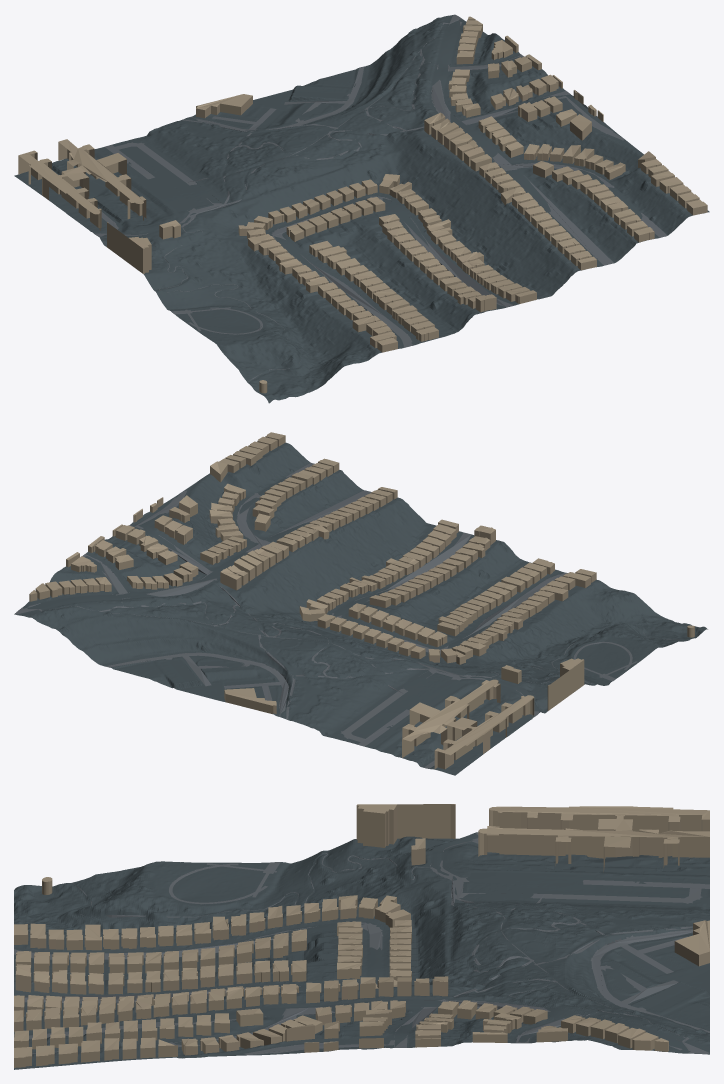
File: epsg26910-1427-10880.lod0.glb
3 views of the same model, one above another, from view 1: azimuth 30°, elevation 25°; view 2: azimuth 150°, elevation 25°; view 3: azimuth 270°, elevation 25° (orthographic). The views are drawn at different scales.
Visible parts, largest first — view 1: epsg26910-1427-10880-lod0; view 2: epsg26910-1427-10880-lod0; view 3: epsg26910-1427-10880-lod0.
Part boxes in pixels (x1,y1,x2,y2): epsg26910-1427-10880-lod0: (14,14,709,403); epsg26910-1427-10880-lod0: (14,432,707,775); epsg26910-1427-10880-lod0: (14,804,709,1069).
Size of the model in its own units: 384 by 93.51 by 384.
